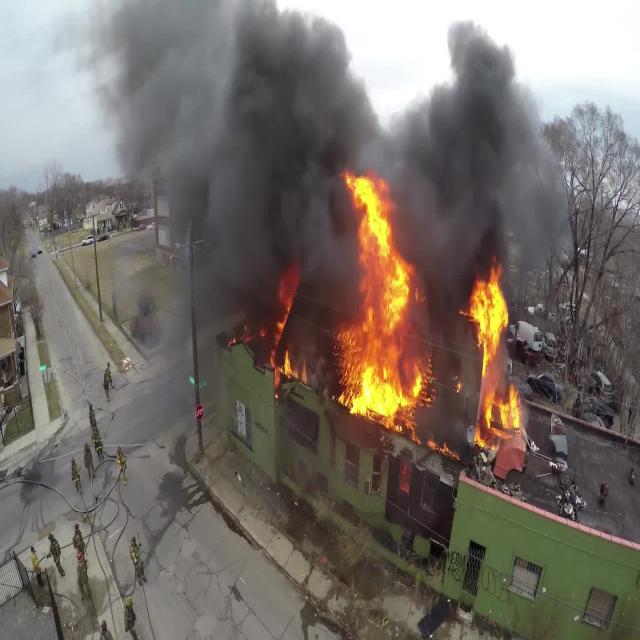smoke: (471, 266, 519, 446)
